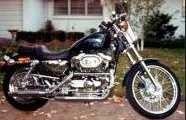motorcycle: (1, 17, 181, 117)
